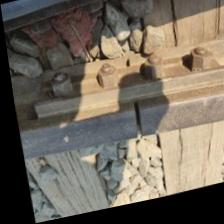person: (102, 92, 166, 153)
